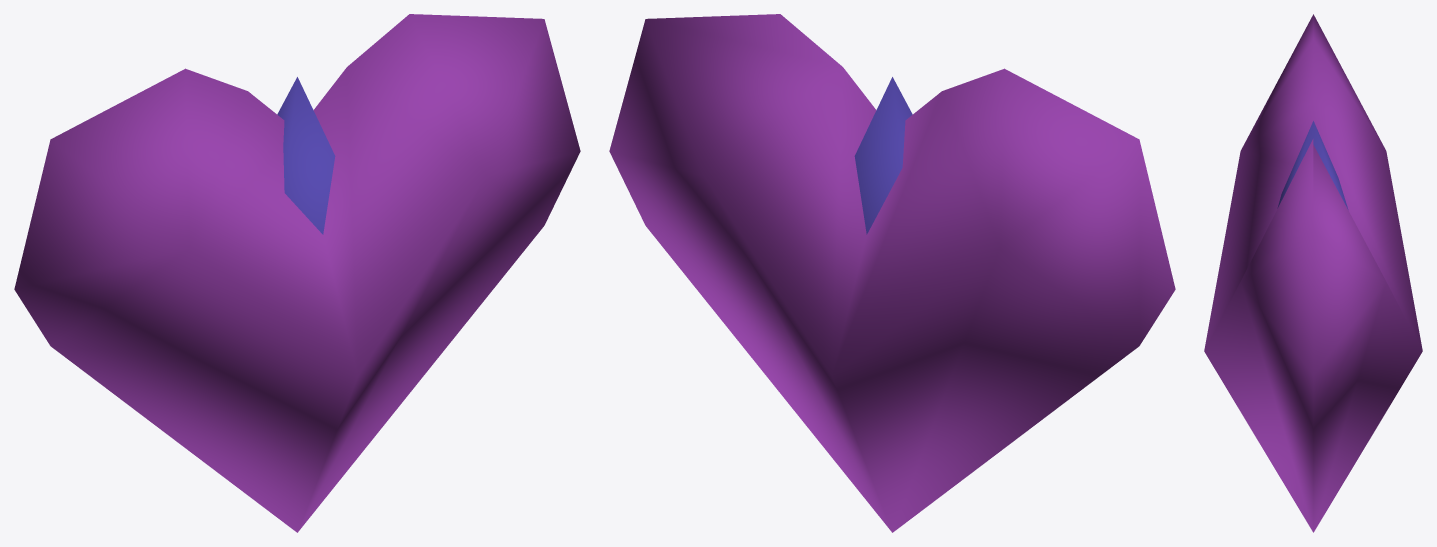
File: stars.glb
The picture shows the model from 3 angles, left to right: view 1: azimuth 30°, elevation 25°; view 2: azimuth 150°, elevation 25°; view 3: azimuth 270°, elevation 25°; orthographic projection. The views are drawn at different scales.
Parts seen in each view (by area): view 1: HeartStar, TwinkleStar; view 2: HeartStar, TwinkleStar; view 3: HeartStar, TwinkleStar.
Part boxes in pixels (<box>): HeartStar: <box>14,14,580,532</box>; TwinkleStar: <box>277,77,335,234</box>; HeartStar: <box>609,14,1175,532</box>; TwinkleStar: <box>854,77,912,234</box>; HeartStar: <box>1204,14,1422,532</box>; TwinkleStar: <box>1277,121,1348,209</box>.
Size of the model in its own units: 2.43 by 2.02 by 0.9.
